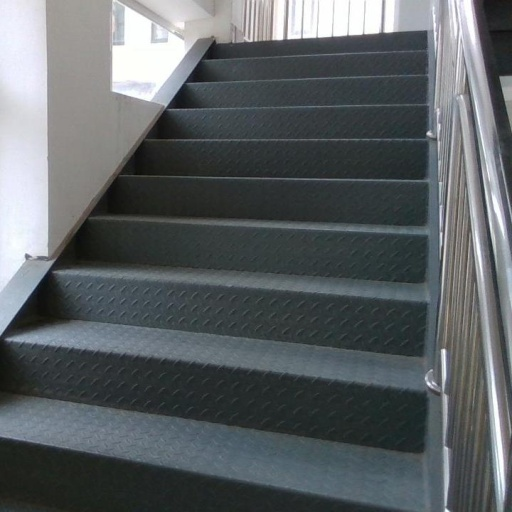Stairs: (0, 34, 428, 512)
